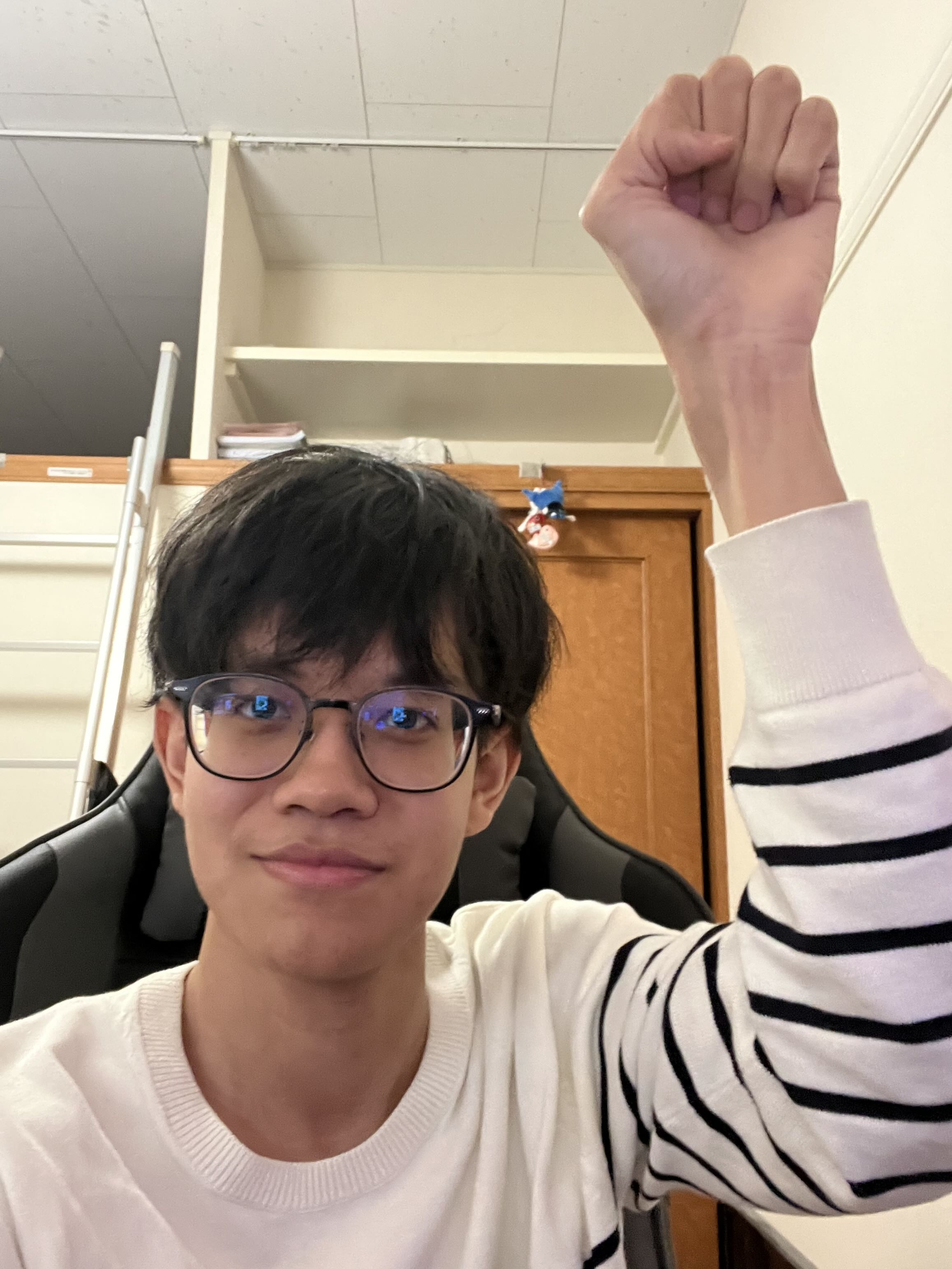right_closed_palm: (615, 75, 816, 336)
